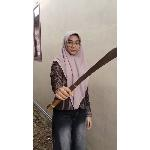Golok: (49, 44, 117, 110)
